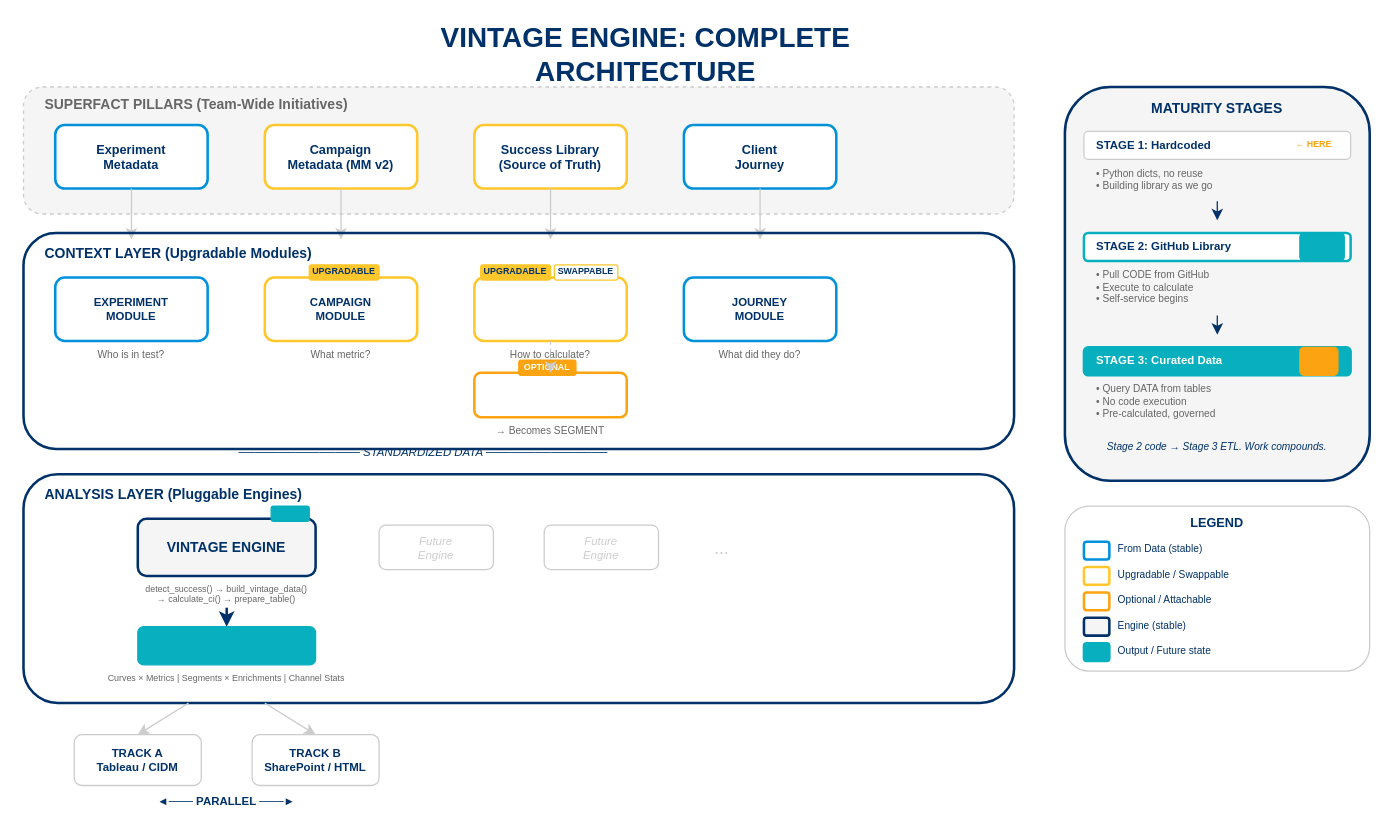
The diagram is 1392 pixels wide and 833 high, and some of its shapes have lost their labels. Each missing label, with the centre of its shape:
"ADAPTIVE OUTPUT" goes at (226,645).
"BUILT" goes at (289,513).
"END GAME" goes at (1318,360).
"ENRICHMENT MODULE" goes at (549,394).
"SUCCESS MODULE" goes at (549,309).
"VISION STARTS" goes at (1321,246).
